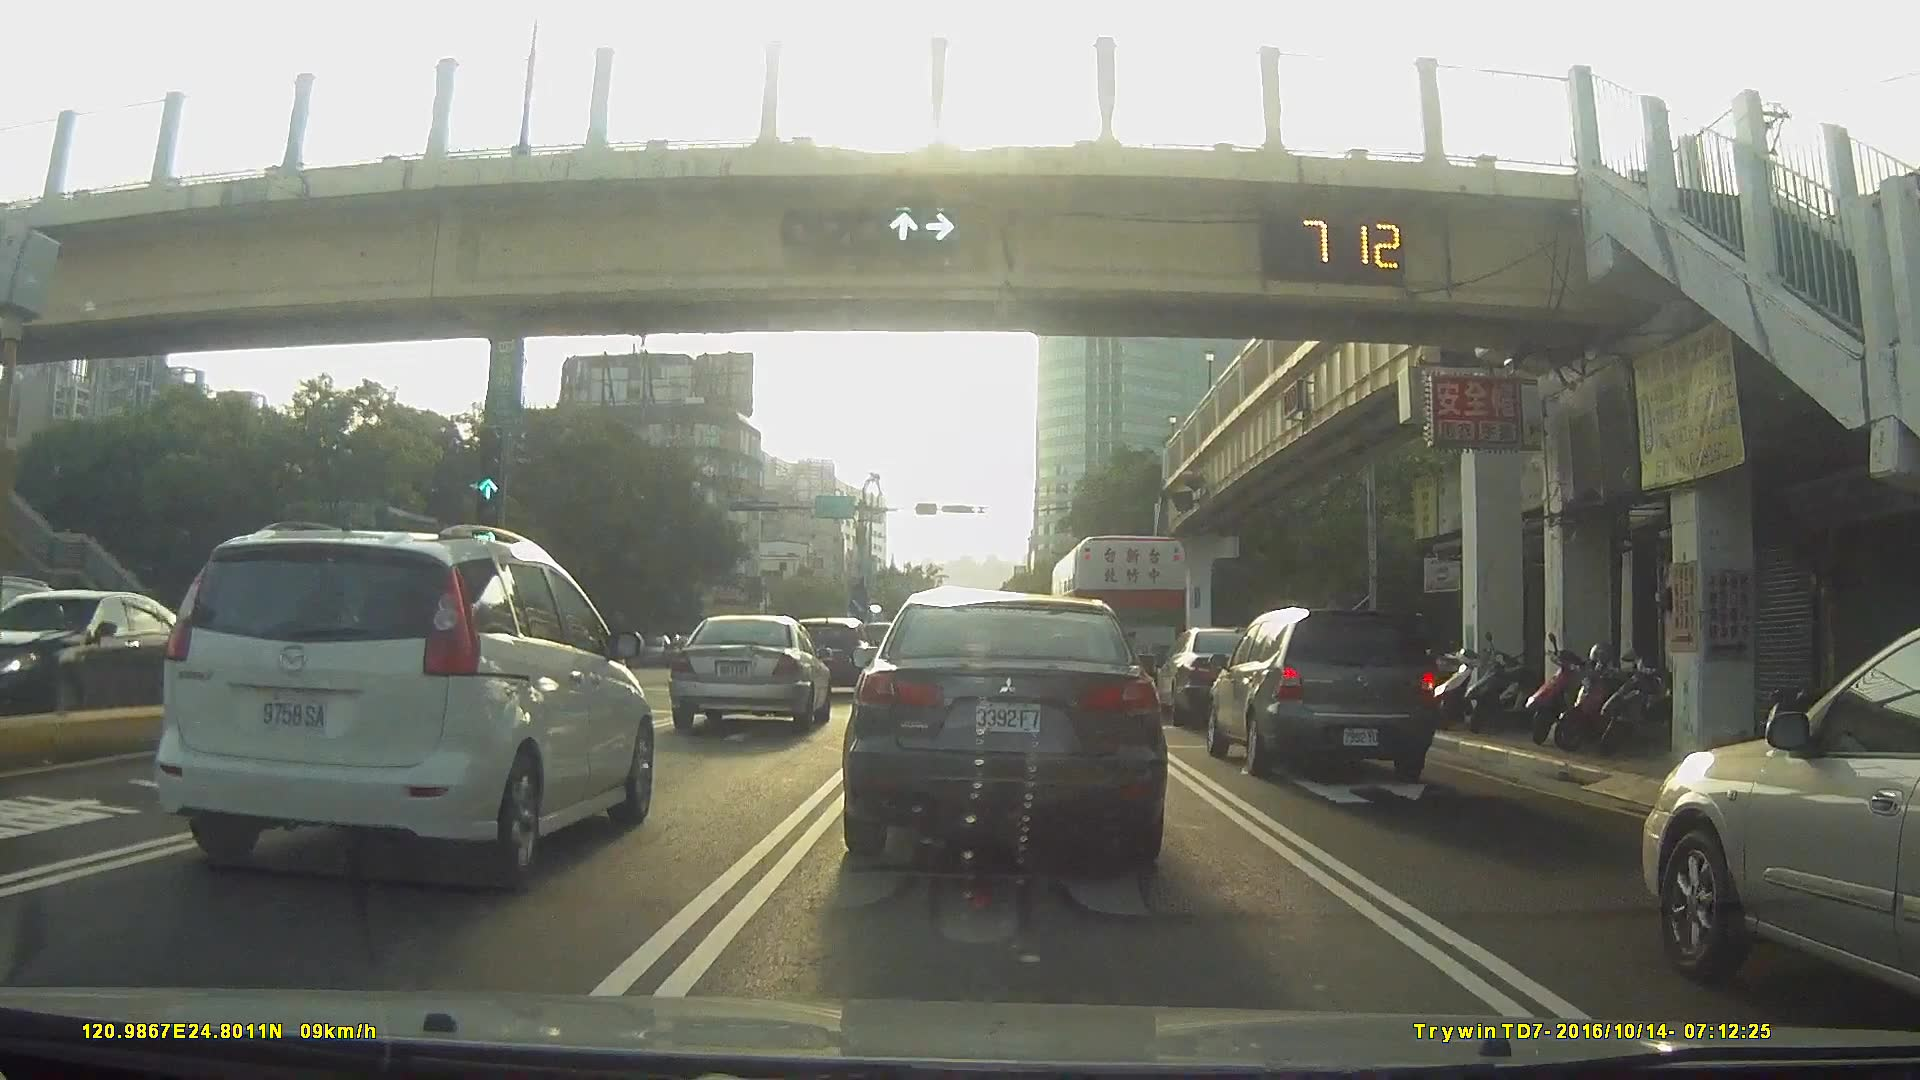vehicle: (146, 520, 657, 884), (1638, 625, 1920, 1002), (843, 584, 1163, 873), (1203, 605, 1437, 789), (1, 592, 223, 725), (1050, 535, 1199, 694), (669, 613, 829, 732), (1156, 622, 1280, 725), (791, 615, 874, 694), (632, 632, 680, 670), (655, 632, 703, 669)
